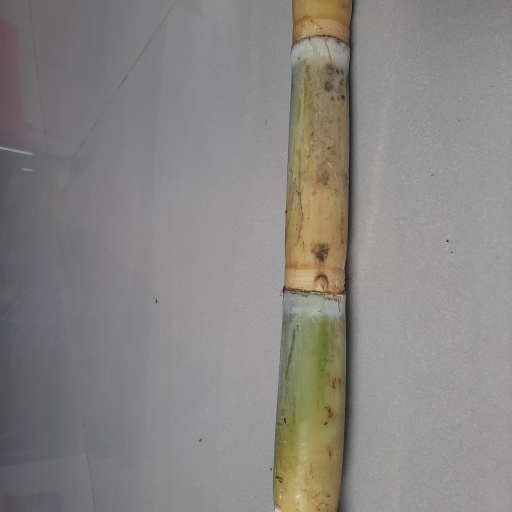Bud: (312, 273, 331, 294)
